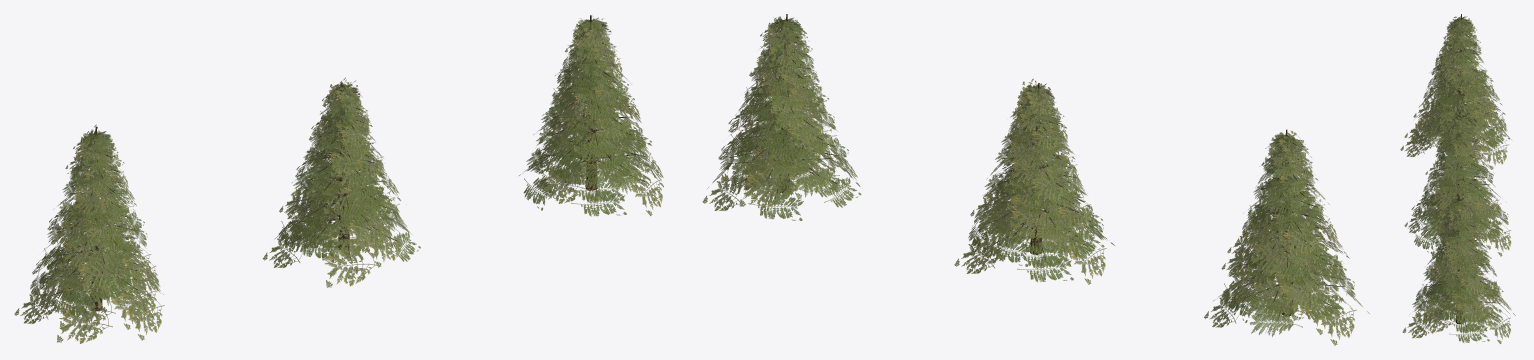
The model's file is tree_fir.glb.
The picture shows the model from 3 angles, left to right: view 1: azimuth 30°, elevation 25°; view 2: azimuth 150°, elevation 25°; view 3: azimuth 270°, elevation 25°; orthographic projection. The views are drawn at different scales.
Visible parts, largest first — view 1: variant_0, variant_2, variant_1; view 2: variant_0, variant_2, variant_1; view 3: variant_2, variant_0, variant_1.
Boxes of the visible parts, x1=… form: variant_0: x1=14, y1=124, x2=164, y2=343; variant_2: x1=519, y1=15, x2=663, y2=216; variant_1: x1=262, y1=77, x2=420, y2=287; variant_0: x1=1204, y1=129, x2=1369, y2=345; variant_2: x1=702, y1=14, x2=861, y2=220; variant_1: x1=954, y1=78, x2=1114, y2=284; variant_2: x1=1402, y1=195, x2=1515, y2=343; variant_0: x1=1400, y1=14, x2=1511, y2=169; variant_1: x1=1404, y1=110, x2=1511, y2=256.
Size of the model in its own units: 30.56 by 8.63 by 6.89.
Materials: 2 (2 with a texture image).
